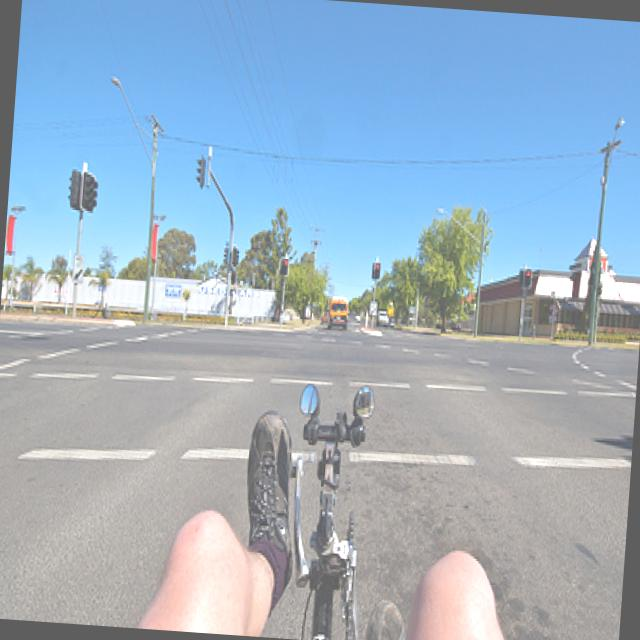Vehicle: (326, 294, 349, 331), (376, 310, 390, 326)
